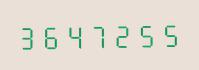five: (132, 19, 154, 49), (155, 19, 177, 48)
four: (63, 20, 85, 50)
seven: (86, 20, 108, 49)
six: (40, 21, 62, 50)
three: (17, 21, 39, 51)
two: (109, 19, 131, 49)
